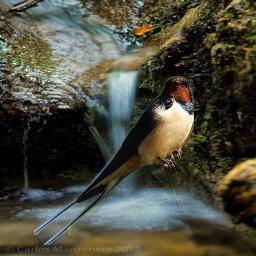Swallow: (34, 76, 194, 245)
